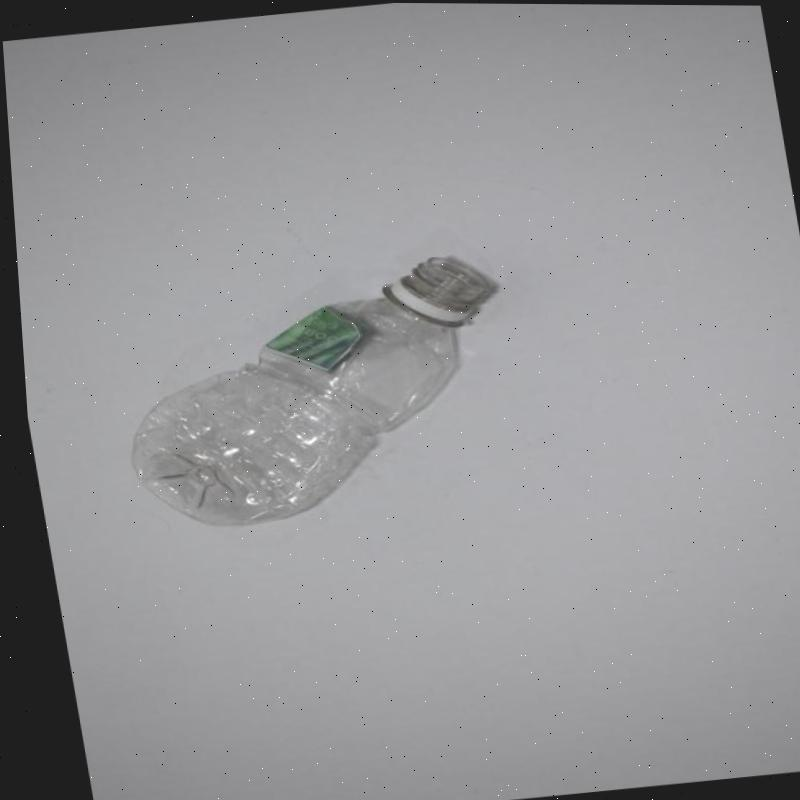botella: (94, 243, 533, 537)
